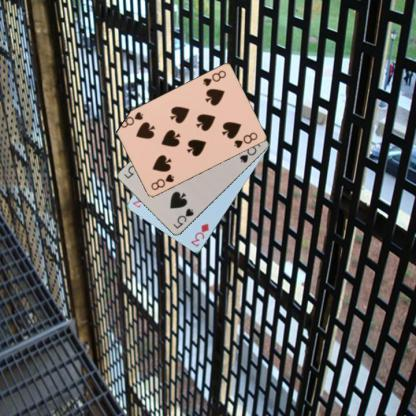3d: (188, 221, 210, 248)
5s: (170, 206, 195, 230)
8s: (200, 68, 227, 88), (148, 172, 175, 191)
